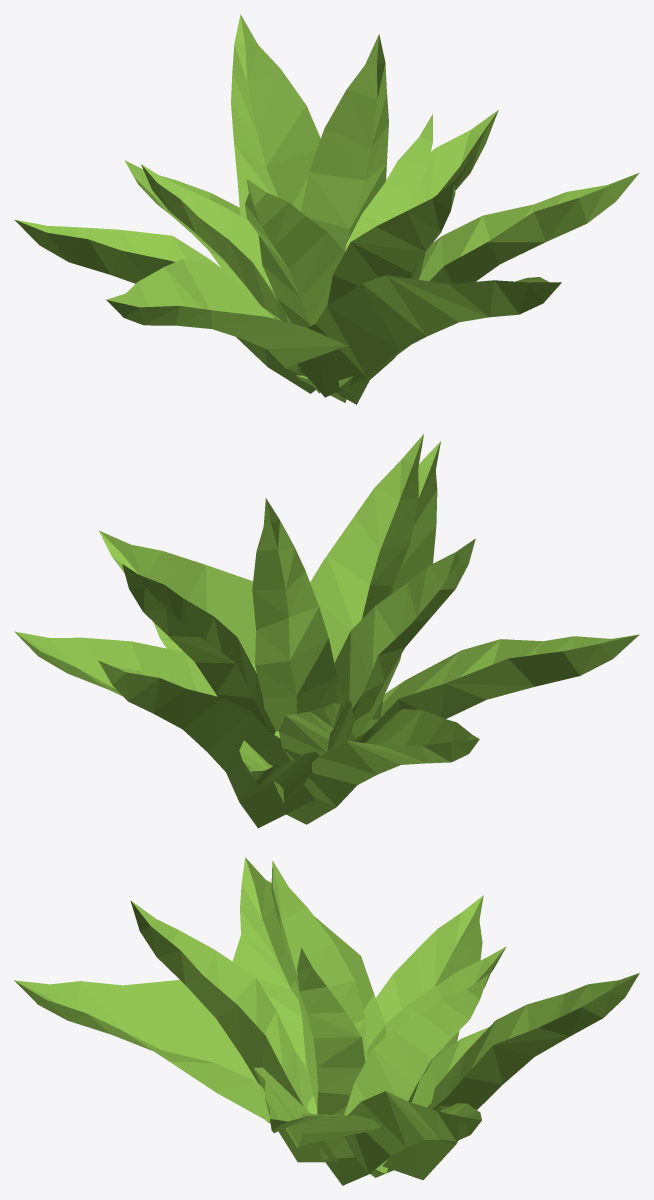
File: step-3.glb
3 views of the same model, one above another, from view 1: azimuth 30°, elevation 25°; view 2: azimuth 150°, elevation 25°; view 3: azimuth 270°, elevation 25° (orthographic). The views are drawn at different scales.
Visible parts, largest first — view 1: group783281343.001, group595482761.001, group266082552.001, group1990659664.001, group1439209696.001, group1238384977.001, group158731365.001, group1758196251.001, group1894289659.001, group1945249999.001, group303338039.001, group1318692651.001; view 2: group1945249999.001, group266082552.001, group1758196251.001, group595482761.001, group1238384977.001, group158731365.001, group1990659664.001, group1439209696.001, group303338039.001, group783281343.001, group1894289659.001, group1318692651.001; view 3: group783281343.001, group1758196251.001, group595482761.001, group266082552.001, group1990659664.001, group303338039.001, group1945249999.001, group1238384977.001, group158731365.001, group1439209696.001, group1894289659.001, group1318692651.001.
Boxes of the visible parts, left/top/right/bottom form: group783281343.001: left=297, top=275, right=561, bottom=397; group595482761.001: left=231, top=14, right=320, bottom=219; group266082552.001: left=106, top=259, right=347, bottom=376; group1990659664.001: left=300, top=34, right=388, bottom=251; group1439209696.001: left=338, top=172, right=639, bottom=394; group1238384977.001: left=245, top=179, right=344, bottom=393; group158731365.001: left=14, top=219, right=315, bottom=393; group1758196251.001: left=298, top=183, right=455, bottom=404; group1894289659.001: left=141, top=164, right=288, bottom=322; group1945249999.001: left=345, top=114, right=432, bottom=251; group303338039.001: left=296, top=110, right=498, bottom=402; group1318692651.001: left=124, top=160, right=259, bottom=304; group1945249999.001: left=252, top=498, right=337, bottom=738; group266082552.001: left=352, top=634, right=639, bottom=742; group1758196251.001: left=311, top=434, right=423, bottom=662; group595482761.001: left=98, top=660, right=314, bottom=828; group1238384977.001: left=334, top=538, right=475, bottom=741; group158731365.001: left=286, top=709, right=479, bottom=824; group1990659664.001: left=122, top=564, right=281, bottom=745; group1439209696.001: left=99, top=530, right=279, bottom=737; group303338039.001: left=14, top=631, right=217, bottom=696; group783281343.001: left=310, top=441, right=440, bottom=720; group1894289659.001: left=279, top=700, right=353, bottom=760; group1318692651.001: left=239, top=740, right=319, bottom=802; group783281343.001: left=14, top=980, right=308, bottom=1123; group1758196251.001: left=130, top=900, right=337, bottom=1162; group595482761.001: left=382, top=973, right=639, bottom=1180; group266082552.001: left=232, top=857, right=385, bottom=1114; group1990659664.001: left=344, top=974, right=488, bottom=1173; group303338039.001: left=325, top=1091, right=481, bottom=1185; group1945249999.001: left=297, top=947, right=365, bottom=1159; group1238384977.001: left=271, top=860, right=367, bottom=1108; group158731365.001: left=370, top=895, right=483, bottom=1177; group1439209696.001: left=253, top=1067, right=381, bottom=1147; group1894289659.001: left=367, top=946, right=506, bottom=1077; group1318692651.001: left=412, top=1027, right=488, bottom=1110.
Bounding box in the file's own units: 0.5248 × 0.2805 × 0.5622.
